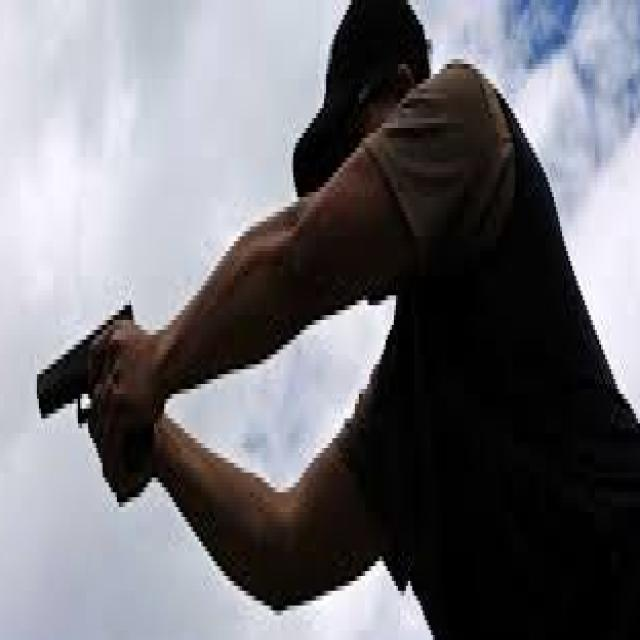gun: (28, 241, 159, 485)
